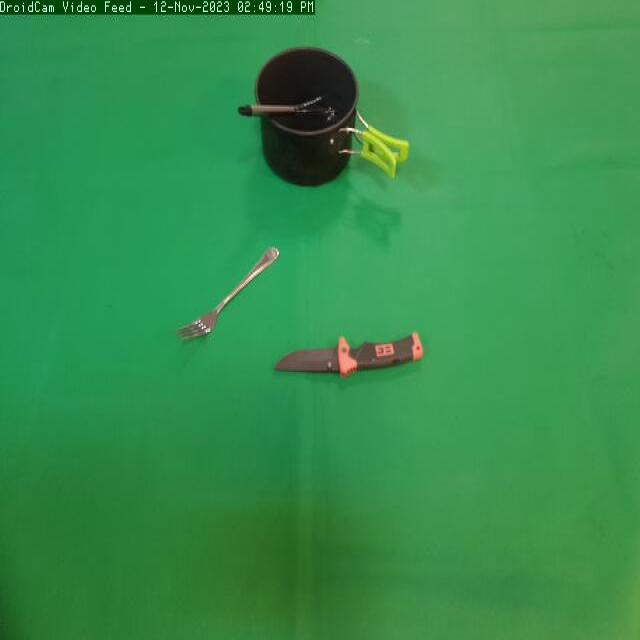fork: (166, 236, 282, 348)
knife: (265, 322, 432, 399)
pot: (228, 40, 412, 197)
whisk: (236, 81, 337, 132)
